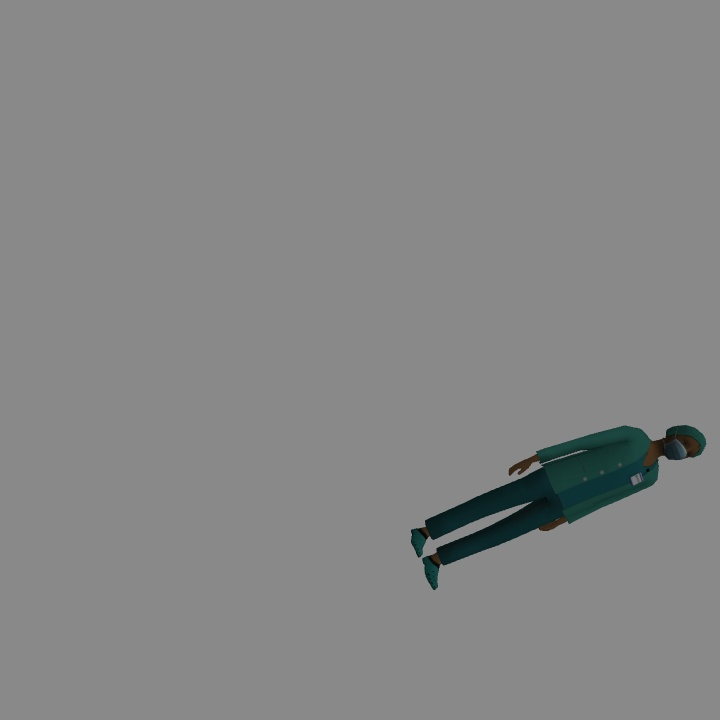victim: (415, 426, 703, 590)
